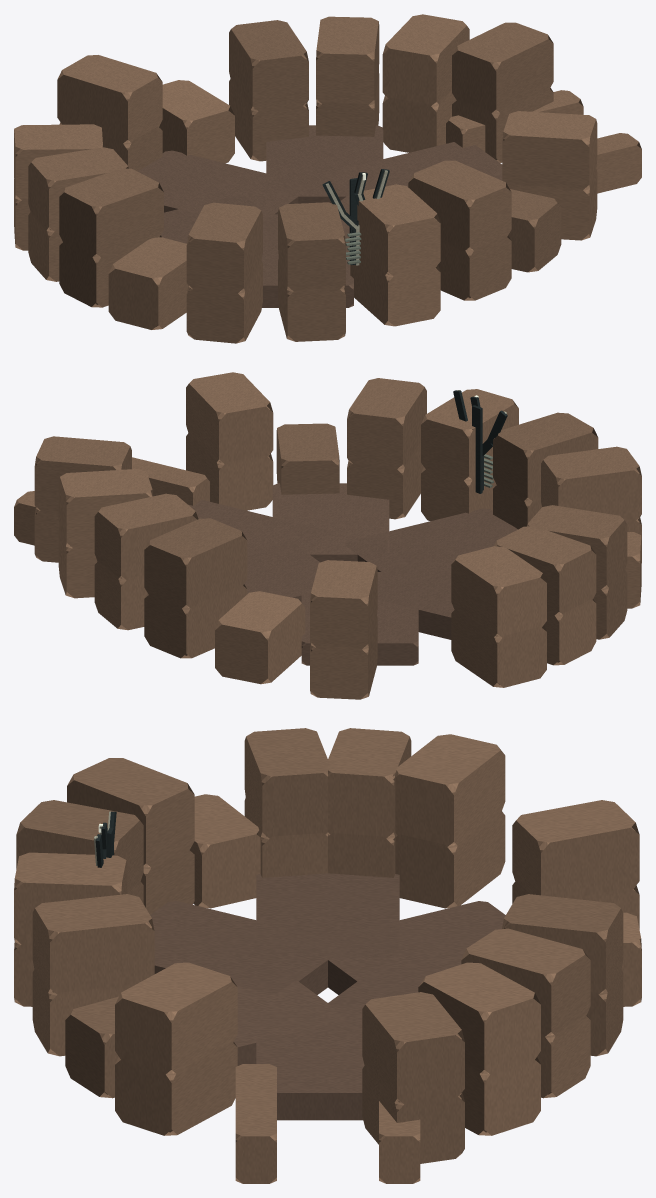
File: cataclysm_fen_cistern.glb
The picture shows the model from 3 angles, top to bottom: view 1: azimuth 30°, elevation 25°; view 2: azimuth 150°, elevation 25°; view 3: azimuth 270°, elevation 25°; orthographic projection. The views are drawn at different scales.
Parts seen in each view (by area): view 1: cataclysm_fen_cistern; view 2: cataclysm_fen_cistern; view 3: cataclysm_fen_cistern.
Boxes of the visible parts, x1,y1,x2,y2 form: cataclysm_fen_cistern: (14, 14, 641, 343); cataclysm_fen_cistern: (14, 372, 641, 699); cataclysm_fen_cistern: (14, 728, 641, 1183).
Bounding box in the file's own units: 2.83 × 0.6469 × 2.28.
3 materials, 3 textured.
